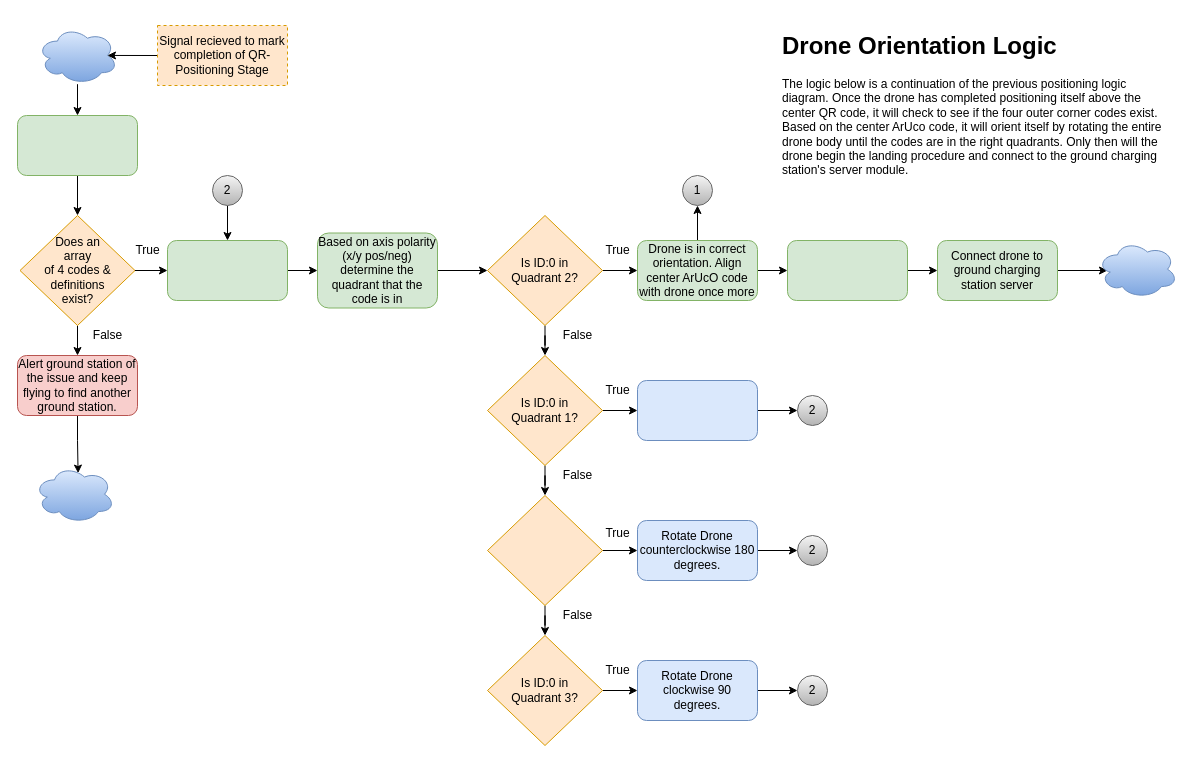
Some shapes in this 1195 by 764 pixel diagram are drawn without their labels. The shapes that lost their labels are listed below. From the top down, each one's box as (x1, y1, x2, y2) in pixels, then its label:
(36, 26, 118, 84): Part B
(16, 114, 138, 176): Filter frame and detect presence of 4 Aruco Codes in corner
(166, 240, 288, 300): Locate position of orientation code at ID:0
(786, 240, 908, 300): Begin lowering drone onto ground charging platform
(1096, 240, 1178, 298): Part C
(636, 380, 758, 440): Rotate Drone counterclockwise 90 degrees.
(34, 464, 114, 523): Part A
(486, 494, 602, 606): Is ID:0 in Quadrant 4?
